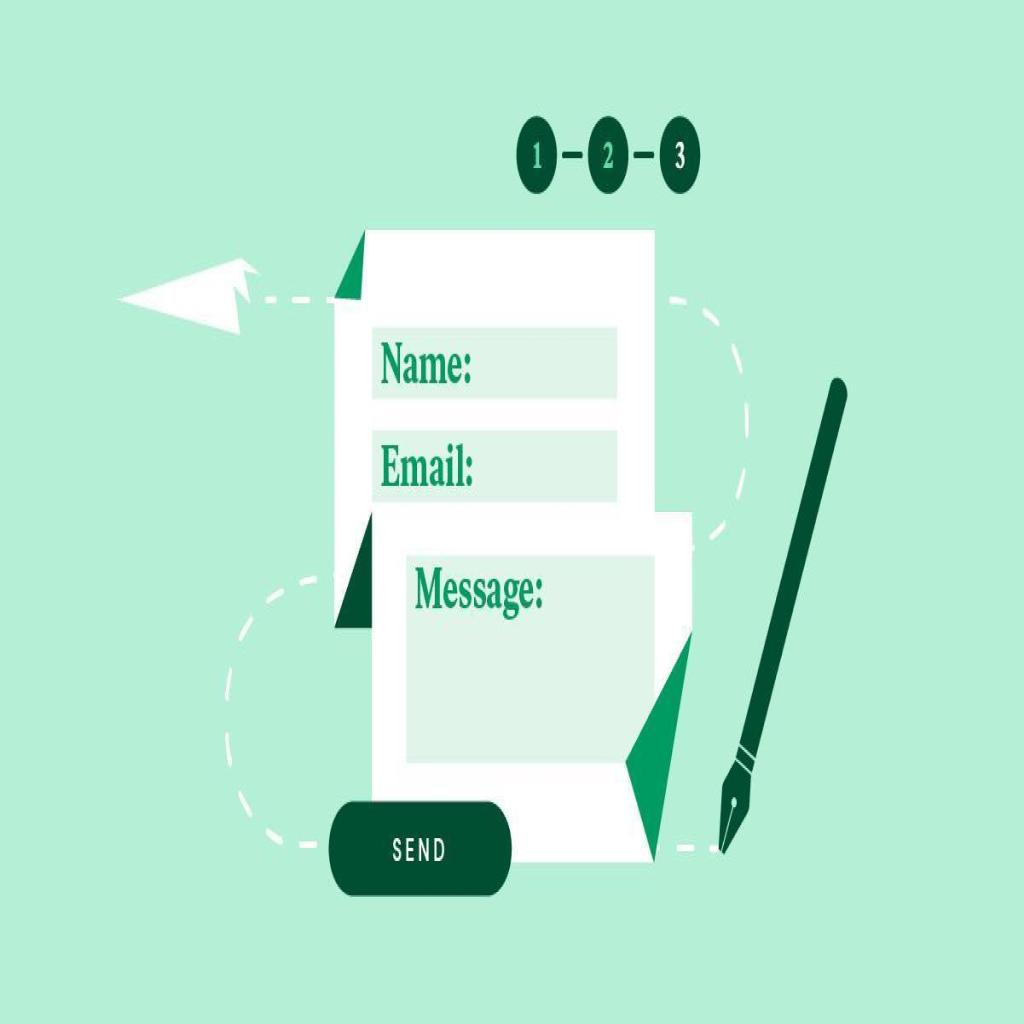button: (330, 799, 511, 895), (315, 854, 331, 858)
input: (406, 550, 656, 772), (368, 320, 618, 404), (372, 426, 617, 500)
